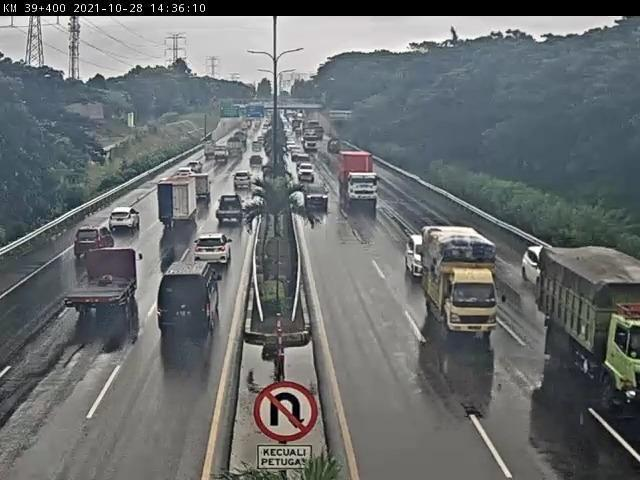car: (145, 255, 222, 353), (185, 226, 237, 281), (209, 192, 250, 240), (104, 198, 143, 242), (72, 227, 115, 259), (400, 236, 427, 274), (228, 174, 250, 205), (526, 246, 542, 278), (169, 173, 182, 191), (298, 160, 310, 175), (249, 162, 259, 180), (181, 167, 194, 180), (214, 152, 225, 167)
truck: (517, 266, 640, 398), (428, 239, 511, 335), (73, 250, 130, 337), (148, 177, 199, 234), (335, 148, 388, 202), (186, 175, 208, 208), (309, 187, 326, 208)
